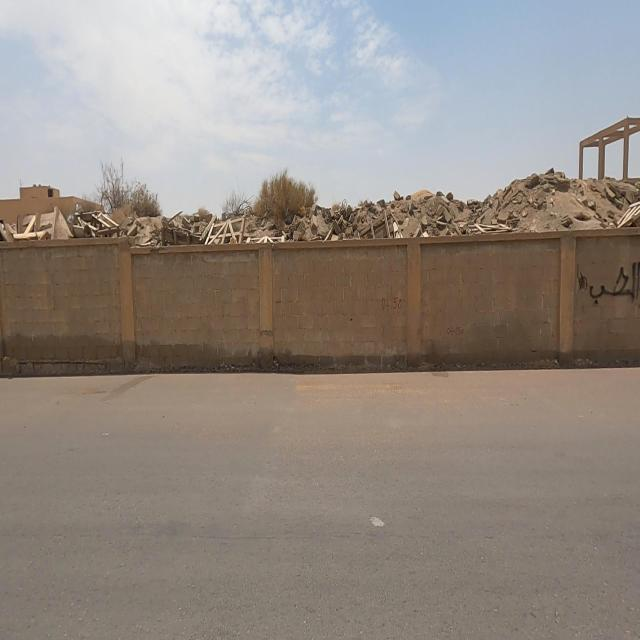Graffiti: (590, 260, 640, 311)
